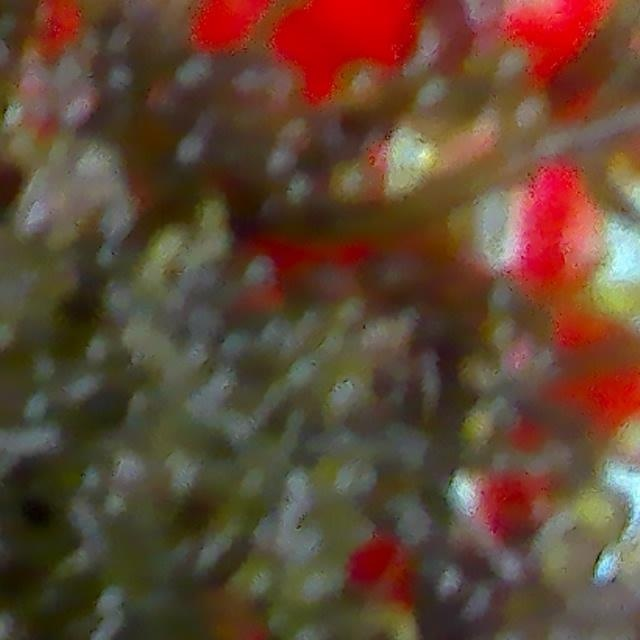SeaGrape: (97, 59, 159, 118), (170, 48, 228, 110), (167, 128, 224, 190), (288, 171, 334, 230), (263, 140, 306, 188)
